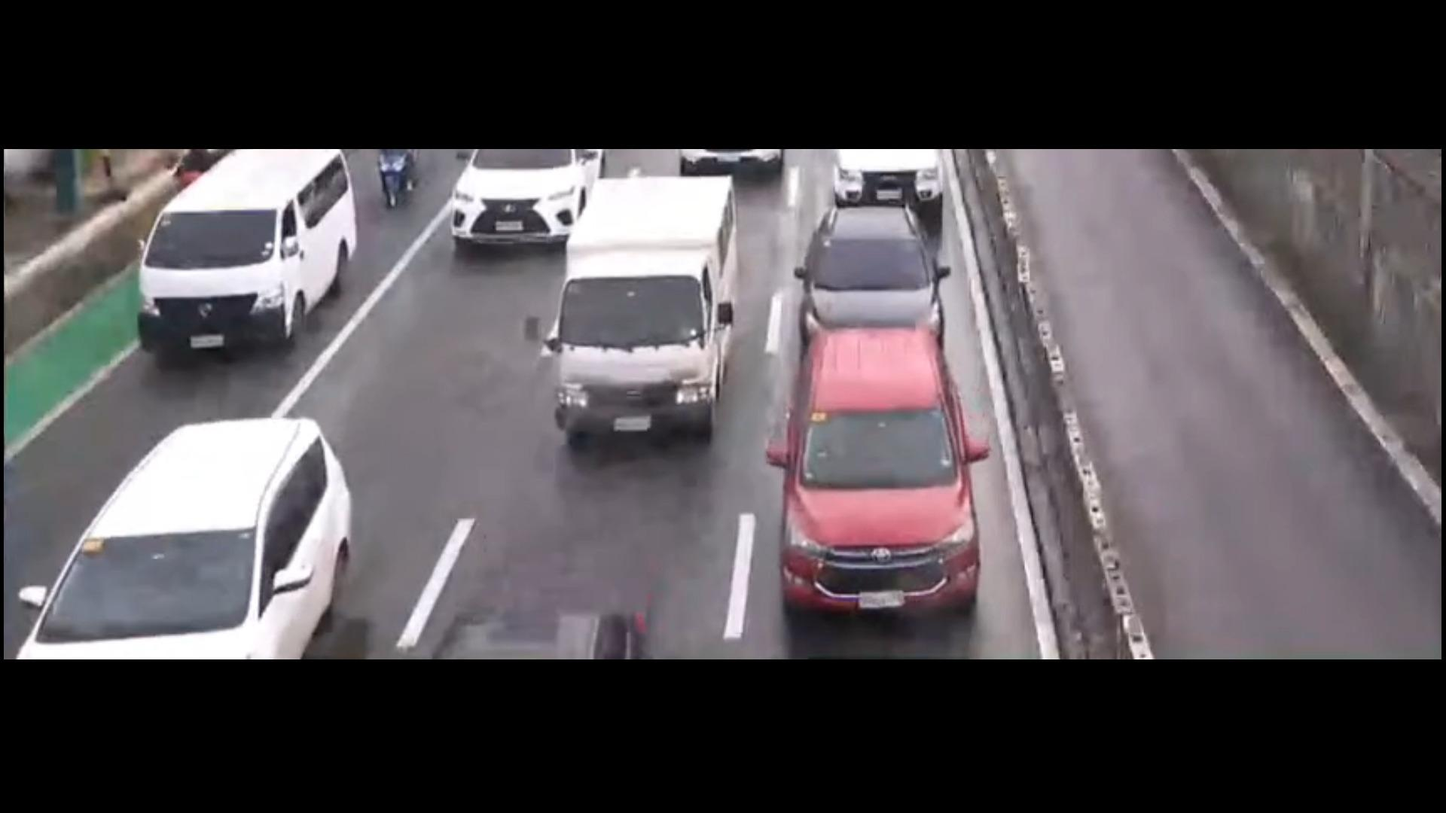Motorcycle: (366, 145, 437, 217)
Multicab: (533, 166, 754, 464)
SUV: (0, 397, 384, 662), (729, 318, 1006, 635), (777, 194, 959, 364)
Van: (112, 151, 371, 361)
